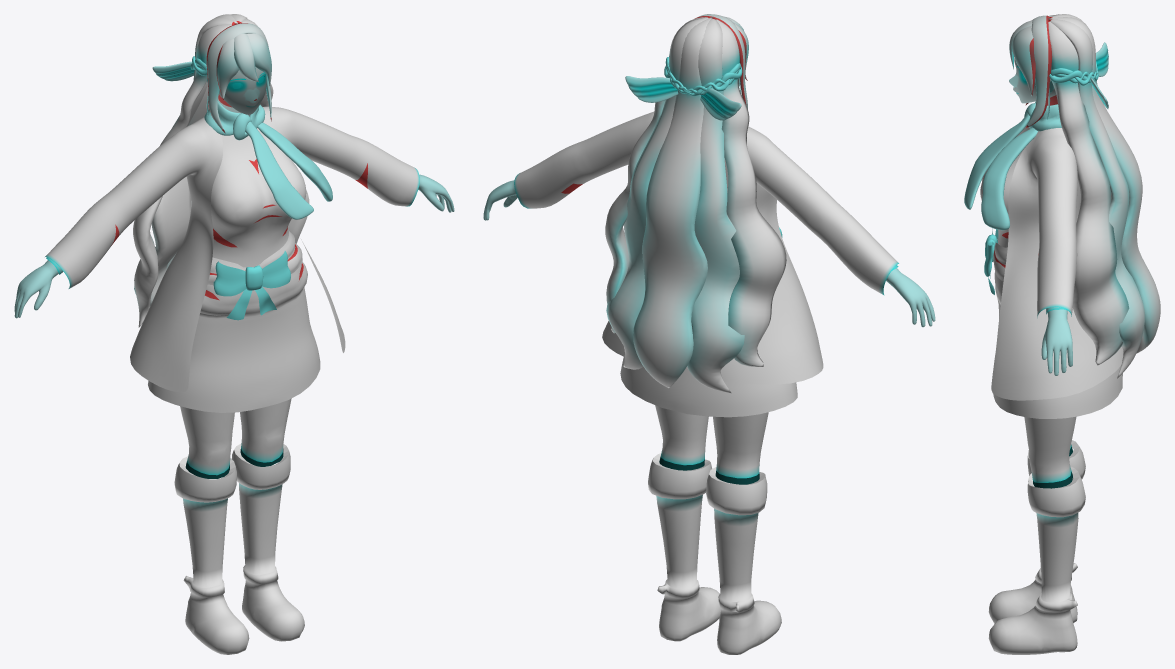
File: character.glb
3 views of the same model, side by side, from view 1: azimuth 30°, elevation 25°; view 2: azimuth 150°, elevation 25°; view 3: azimuth 270°, elevation 25° (orthographic). The views are drawn at different scales.
Visible parts, largest first — view 1: model; view 2: model; view 3: model.
Boxes of the visible parts, x1=… form: model: x1=14, y1=14, x2=454, y2=654; model: x1=483, y1=14, x2=935, y2=654; model: x1=964, y1=14, x2=1160, y2=654.
Bounding box in the file's own units: 1.23 × 1.64 × 0.4734.
